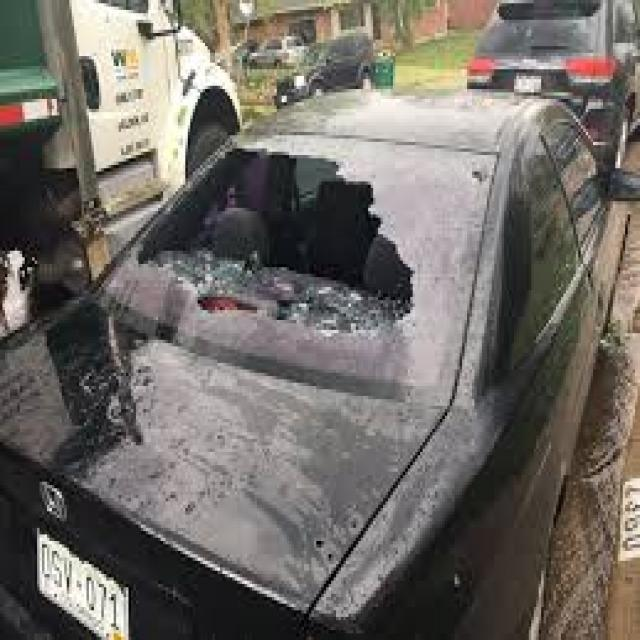damaged-rear-window: (99, 124, 498, 398)
